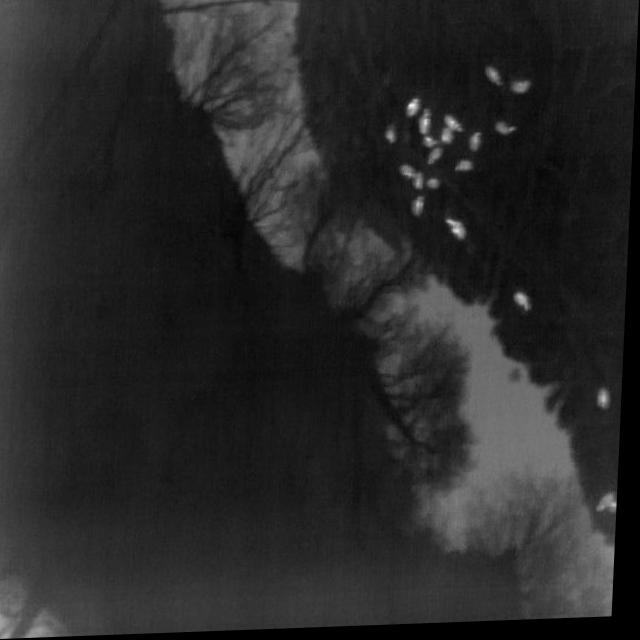deer: (447, 222, 469, 244), (600, 496, 620, 517), (485, 69, 504, 90), (516, 296, 535, 316), (419, 112, 433, 139), (601, 392, 615, 414), (496, 125, 518, 139), (511, 84, 533, 98), (413, 200, 427, 221), (408, 101, 423, 119), (386, 128, 400, 147), (470, 136, 483, 156), (430, 151, 445, 168), (401, 167, 418, 181), (442, 132, 455, 148), (424, 139, 441, 151), (457, 164, 475, 175), (415, 176, 426, 193), (428, 182, 443, 193), (613, 506, 621, 519)
